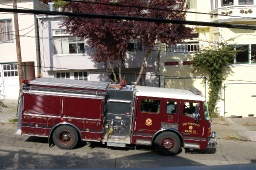truck: (14, 71, 219, 159)
